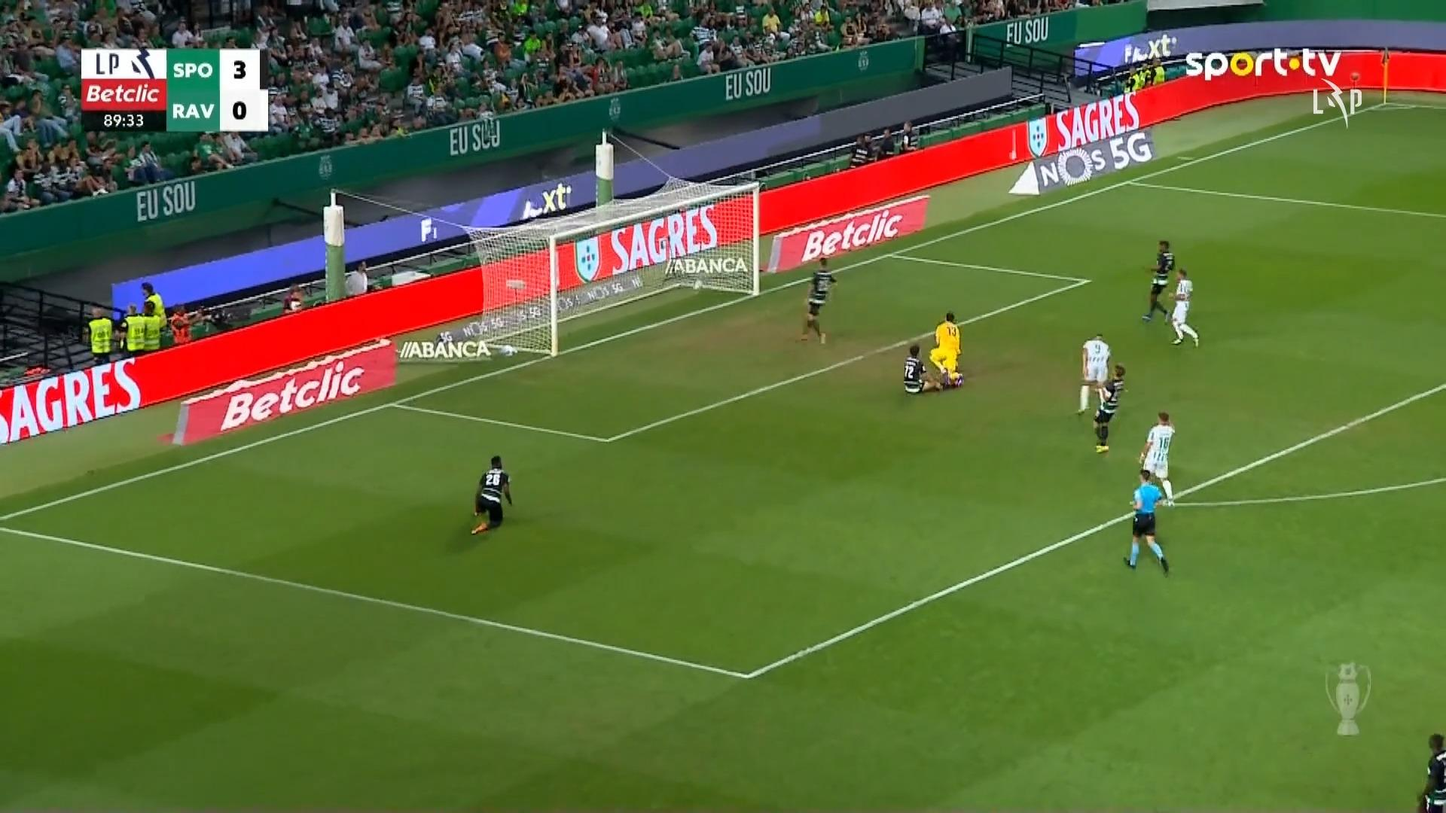ball: (691, 281, 704, 292)
goalkeeper: (929, 310, 963, 387)
player: (1137, 410, 1176, 507), (795, 255, 837, 345), (470, 454, 513, 534), (1091, 363, 1126, 452), (1075, 333, 1112, 415), (1141, 239, 1174, 322), (1167, 267, 1200, 347), (902, 343, 944, 394)
referee: (1122, 467, 1170, 575)
